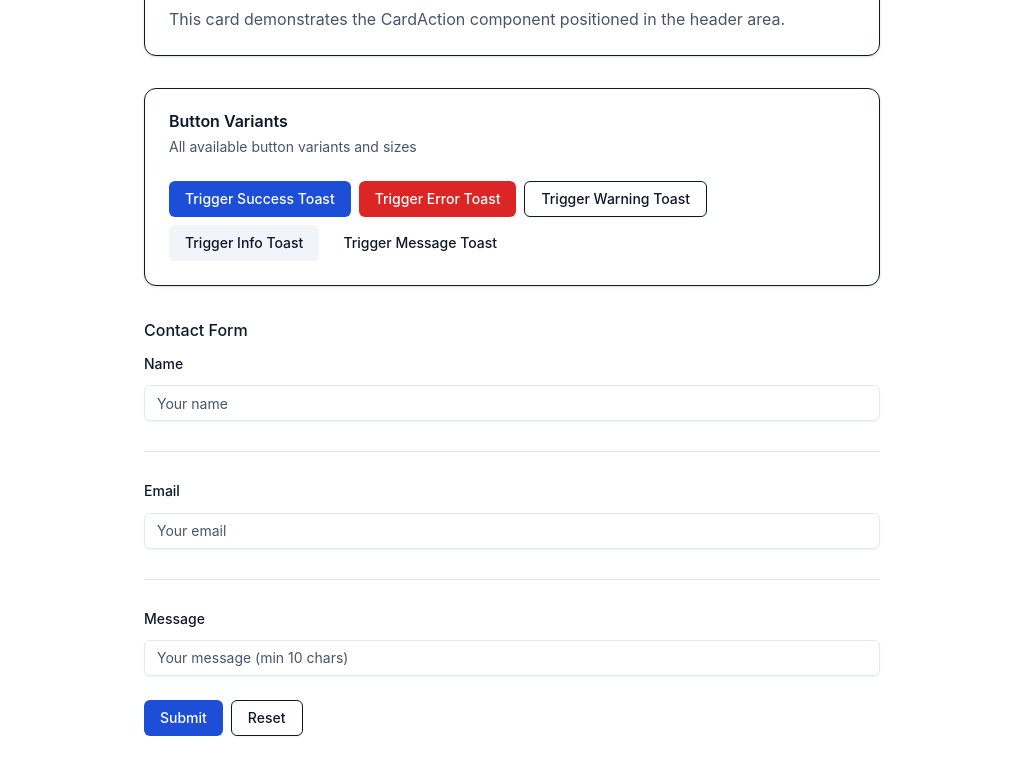
Test case: ComponentDemoPage › shows validation errors when submitting empty form
This screenshot has width=1024, height=768.
(page scrolled)
Step 1. Click the button "Submit" → (183, 718), box [144, 700, 223, 736]
(page scrolled)
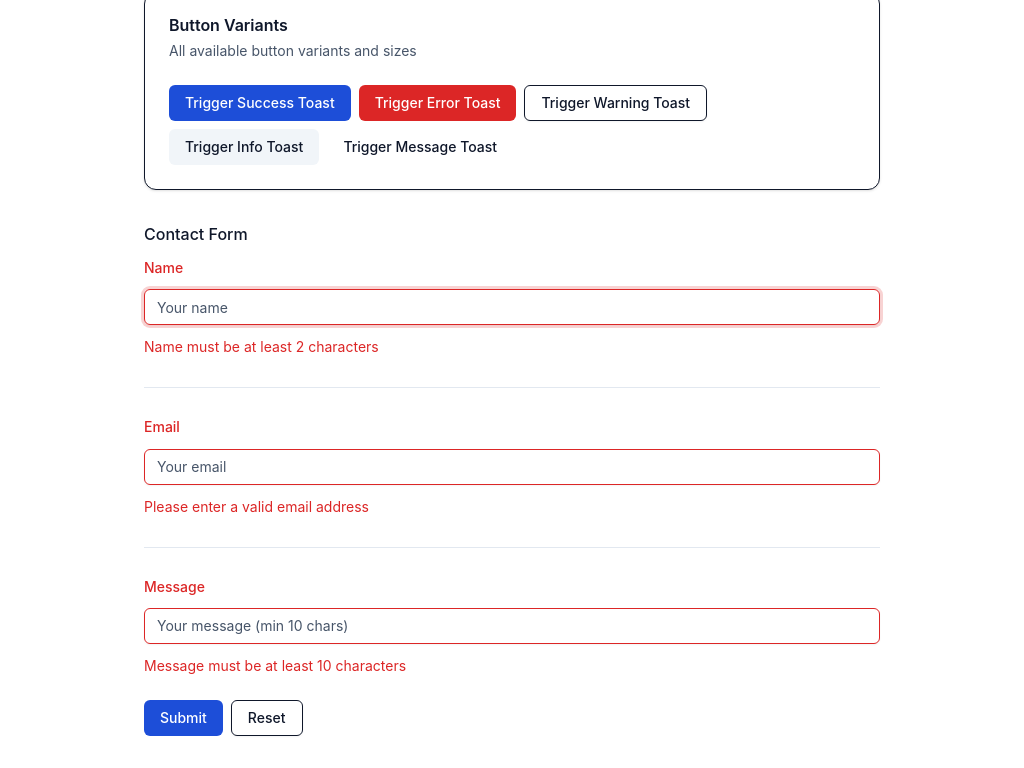
Expected: the text "Name must be at least 2 characters" is shown, [144, 338, 379, 355]
Expected: the text "Please enter a valid email address" is shown, [144, 498, 369, 514]
Expected: the text "Message must be at least 10 characters" is shown, [144, 657, 406, 674]
